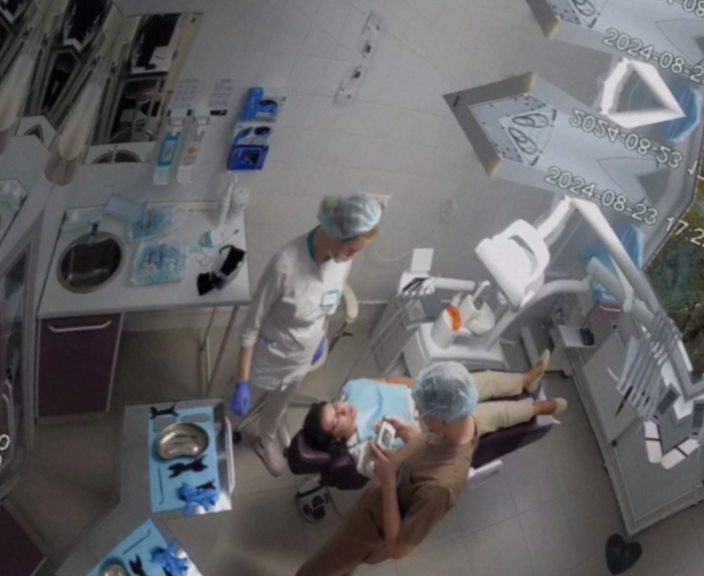Patient: (272, 266, 588, 564)
